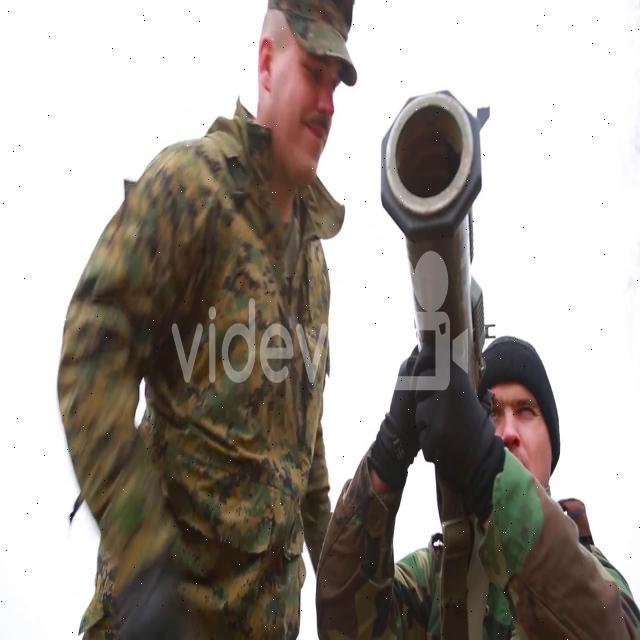bazooka: (378, 70, 495, 564)
